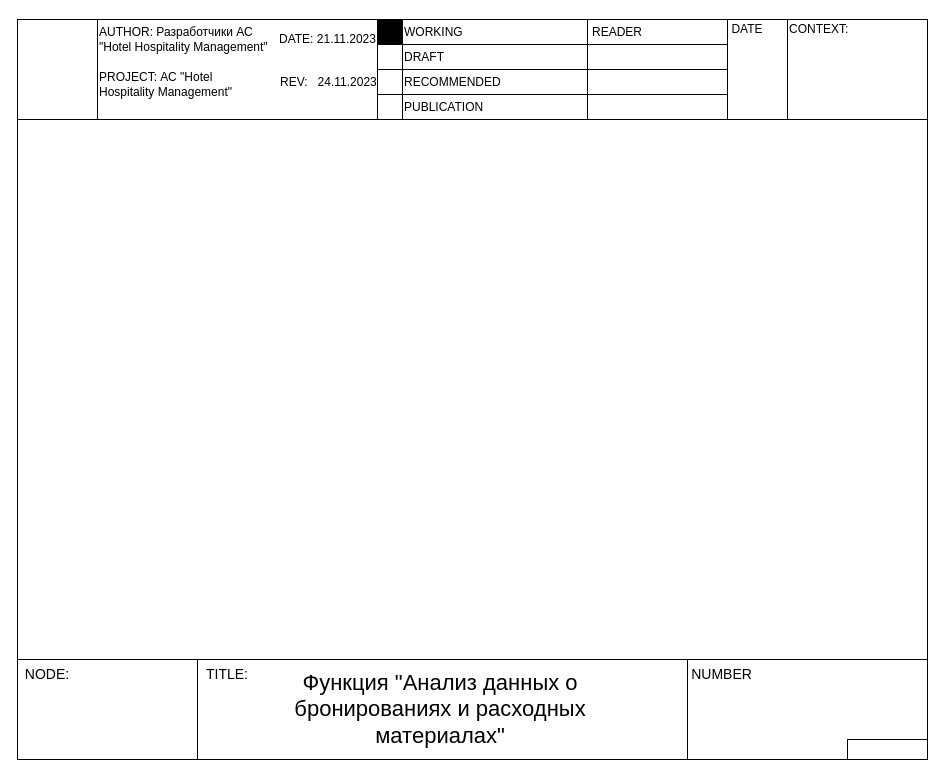
Image size: 945x777. Some labels were removed from this diagram. Here are the shapes that lost their labels. From the top down, the box of each, then its label:
(16, 18, 98, 120): USED AT:
(786, 18, 928, 120): A0
(16, 658, 198, 760): А4
